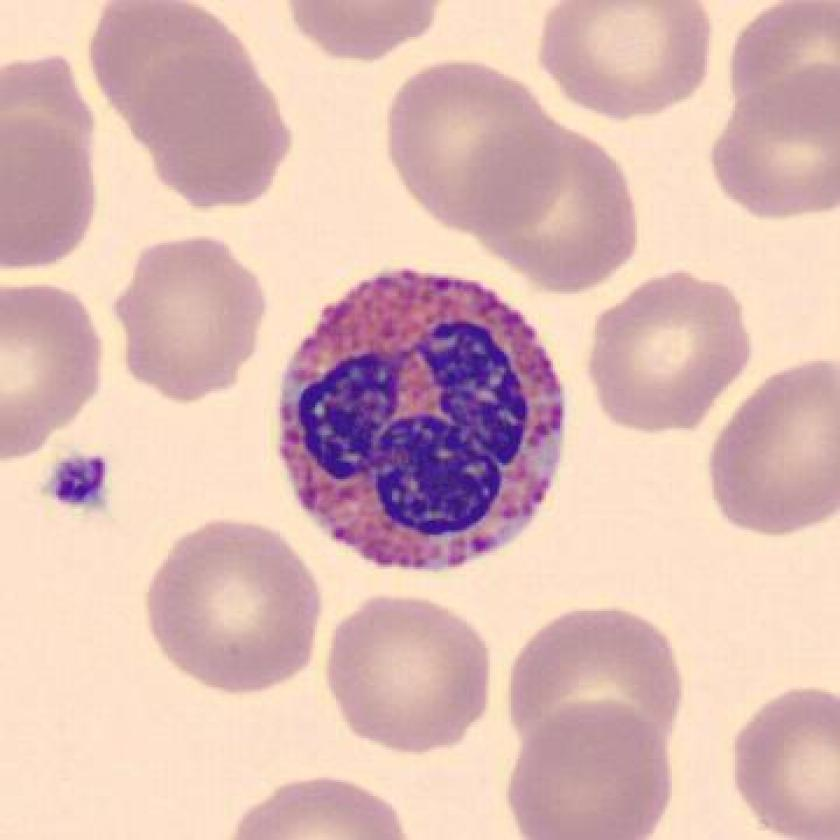eosinophil: (267, 260, 577, 580)
